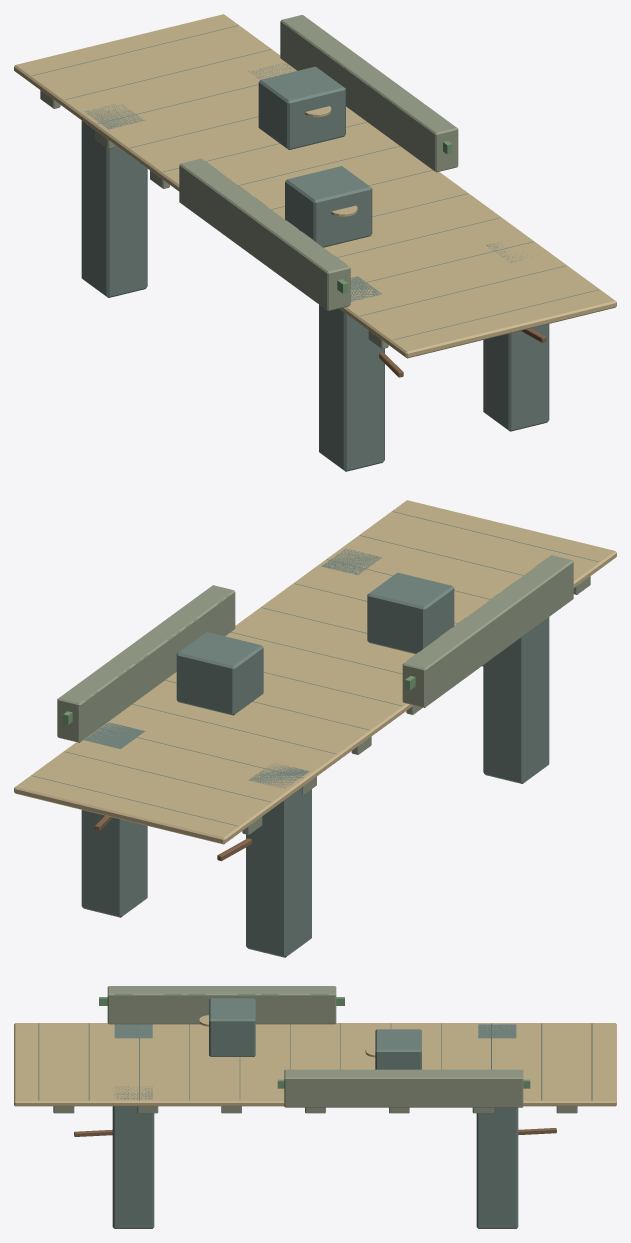
File: sun-bridge-shell.glb
3 renders of one model, top to bottom at view 1: azimuth 30°, elevation 25°; view 2: azimuth 150°, elevation 25°; view 3: azimuth 270°, elevation 25°, orthographic. The views are drawn at different scales.
Visible parts, largest first — view 1: temple_temple_sun_stone, temple_temple_water-stained_stone, temple_temple_weathered_stone; view 2: temple_temple_sun_stone, temple_temple_water-stained_stone, temple_temple_weathered_stone; view 3: temple_temple_sun_stone, temple_temple_weathered_stone, temple_temple_water-stained_stone, temple_temple_repair_timber, temple_temple_moss.
Boxes of the visible parts, box(x1,y1,x2,y2) form: temple_temple_sun_stone: box(14, 14, 616, 358); temple_temple_water-stained_stone: box(32, 25, 598, 471); temple_temple_weathered_stone: box(40, 15, 458, 348); temple_temple_sun_stone: box(14, 500, 616, 844); temple_temple_water-stained_stone: box(32, 511, 598, 957); temple_temple_weathered_stone: box(57, 555, 590, 834); temple_temple_sun_stone: box(14, 1015, 616, 1106); temple_temple_weathered_stone: box(53, 986, 577, 1113); temple_temple_water-stained_stone: box(38, 998, 592, 1228); temple_temple_repair_timber: box(74, 1128, 556, 1136); temple_temple_moss: box(99, 994, 530, 1088).
Size of the model in its own units: 26.04 by 22 by 71.92.
